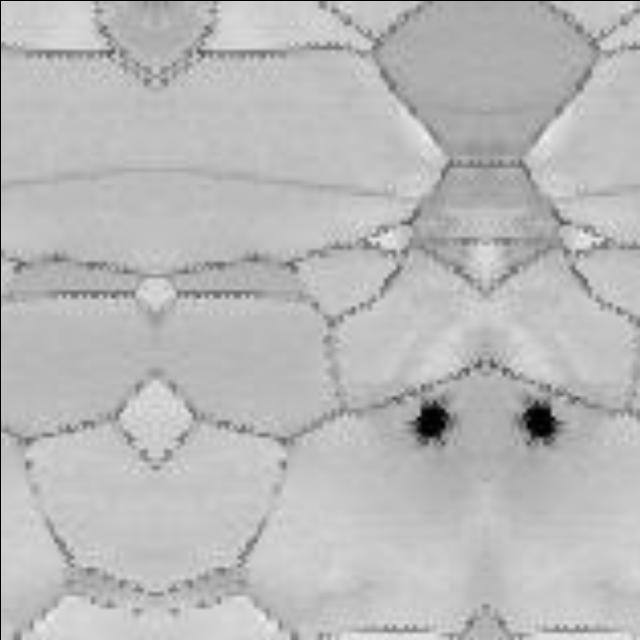good_void: (397, 386, 463, 456), (506, 386, 572, 456)
